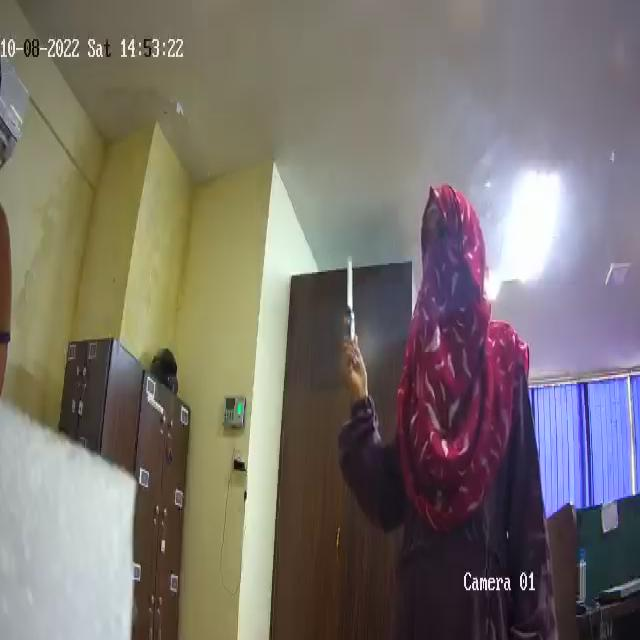Knife: (339, 249, 357, 366)
